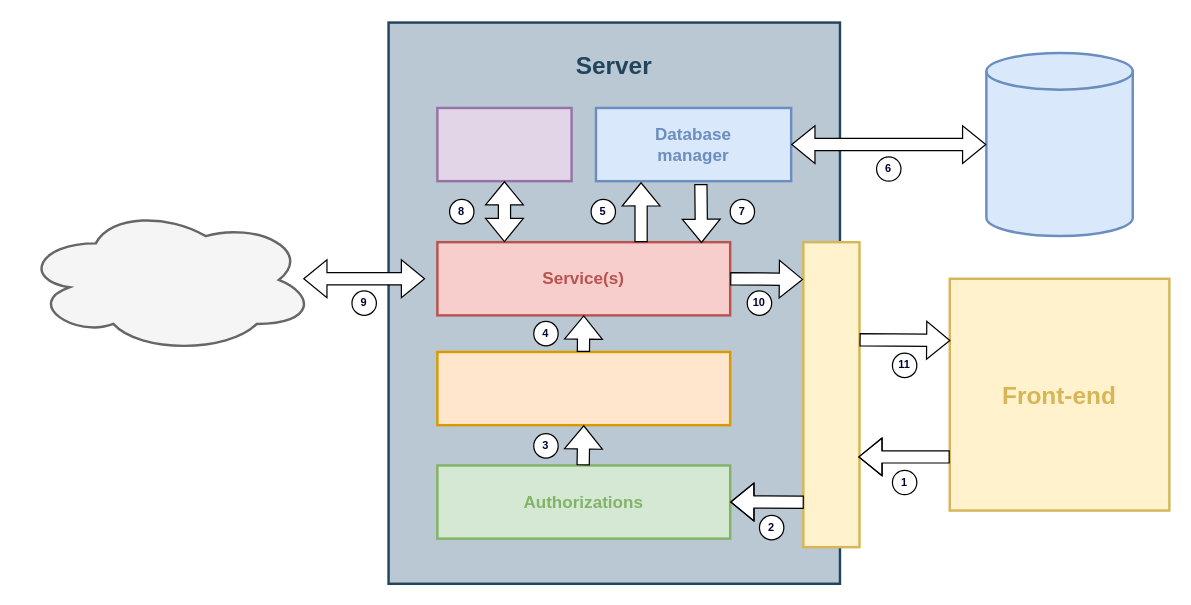
This 1191x605 diagram has some shape labels left out. Each missing label, with the centre of its shape:
A P I: point 831,394
Class(es): point 504,144
Data validation: point 583,388
Database: point 1059,144
Server with other service(s): point 168,279
